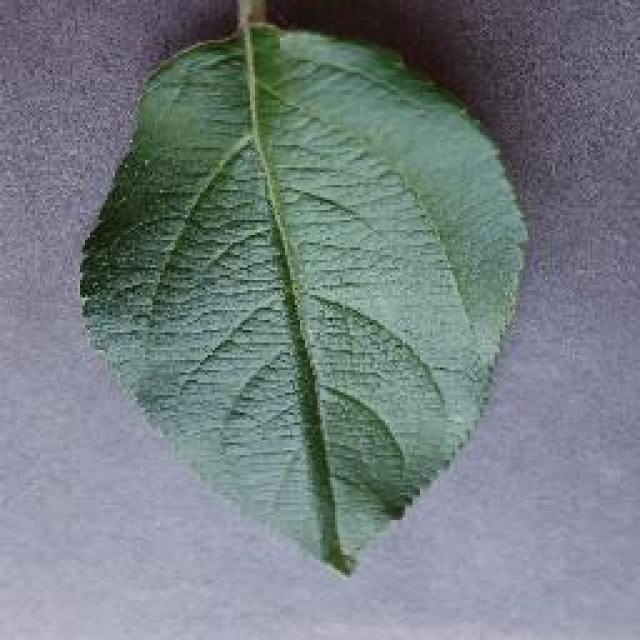apple healthy: (75, 8, 530, 578)
